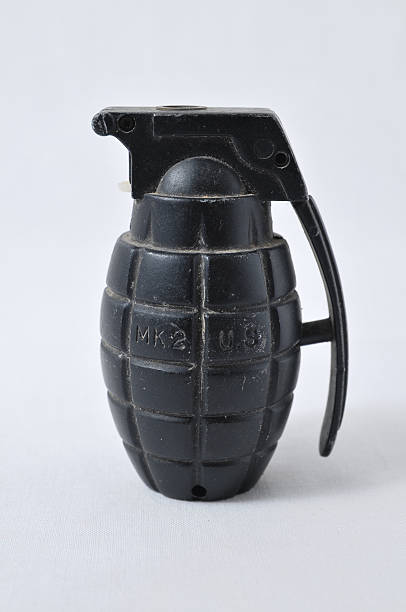e1: (89, 103, 352, 501)
